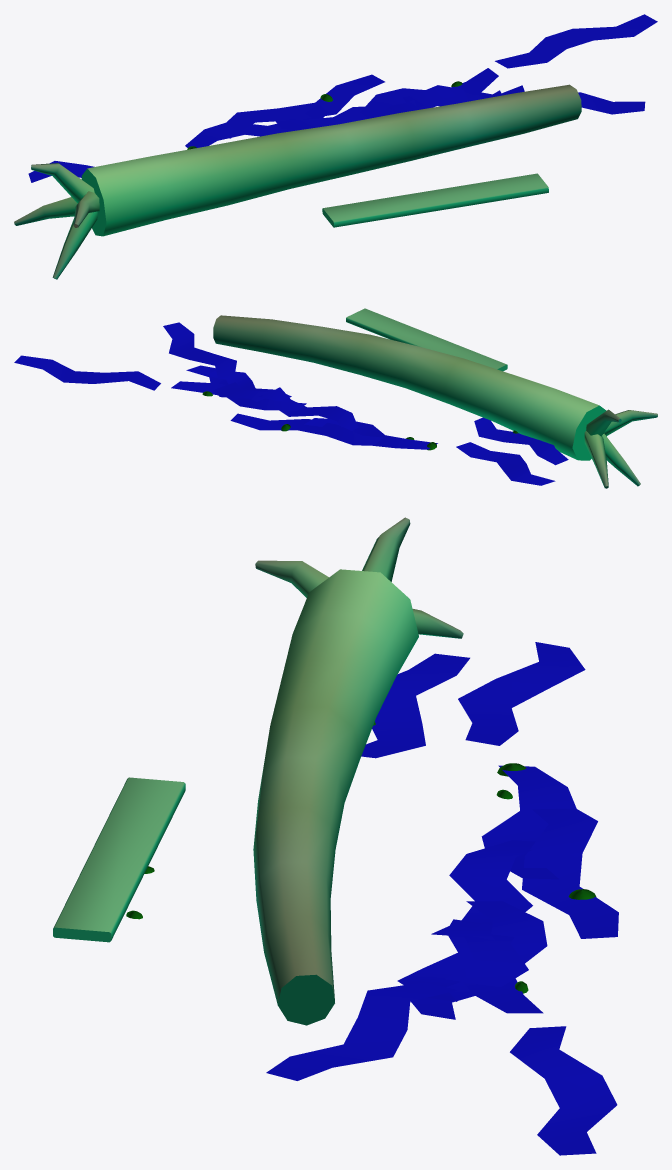
File: tide_debris.glb
The picture shows the model from 3 angles, top to bottom: view 1: azimuth 30°, elevation 25°; view 2: azimuth 150°, elevation 25°; view 3: azimuth 270°, elevation 25°; orthographic projection. The views are drawn at different scales.
Visible parts, largest first — view 1: tide_debris; view 2: tide_debris; view 3: tide_debris.
Boxes of the visible parts, x1,y1,x2,y2 form: tide_debris: (14,14,657,279); tide_debris: (14,308,657,488); tide_debris: (53,517,618,1155).
Size of what is drawn, in the model's own units: 3.5 by 0.4884 by 1.52.
